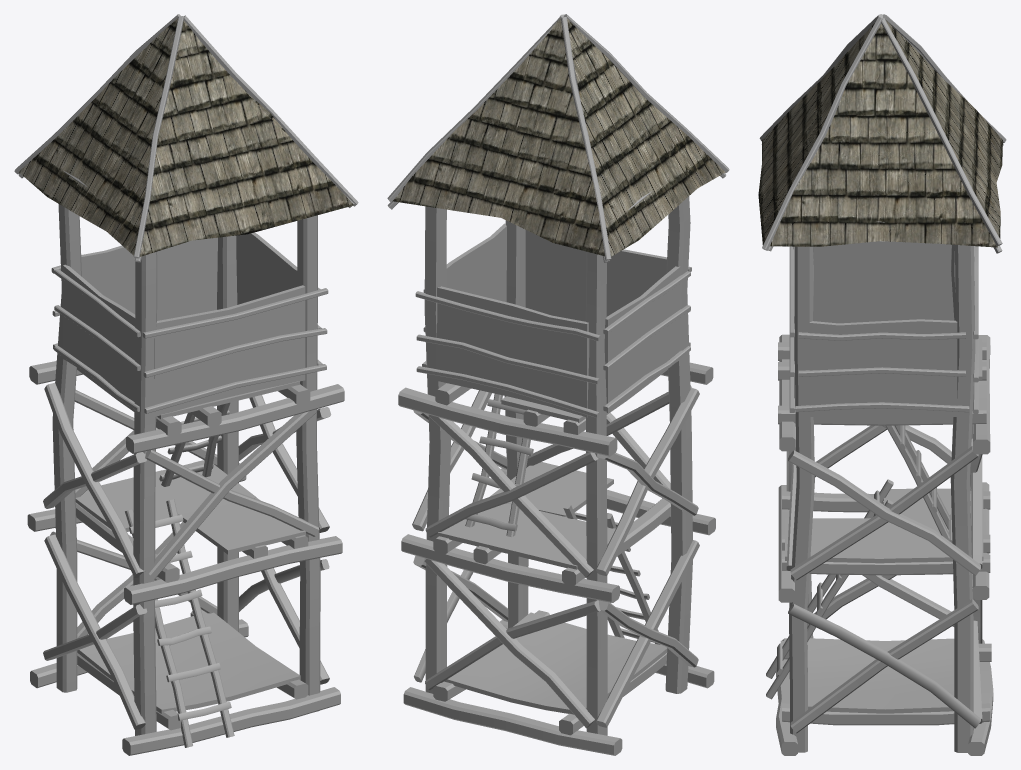
The model's file is watch1.fbx.
3 renders of one model, left to right at view 1: azimuth 30°, elevation 25°; view 2: azimuth 150°, elevation 25°; view 3: azimuth 270°, elevation 25°, orthographic.
Visible parts, largest first — view 1: watch; view 2: watch; view 3: watch.
Part boxes in pixels (left/top/right/bottom): watch: left=14, top=14, right=358, bottom=755; watch: left=387, top=14, right=729, bottom=755; watch: left=758, top=14, right=1006, bottom=755.
Size of the model in its own units: 579 by 1676 by 545.
